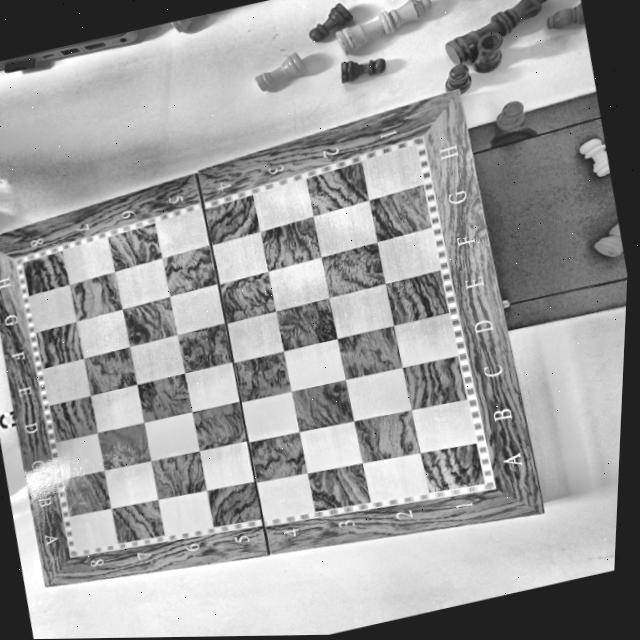chessboard: (0, 91, 543, 587)
